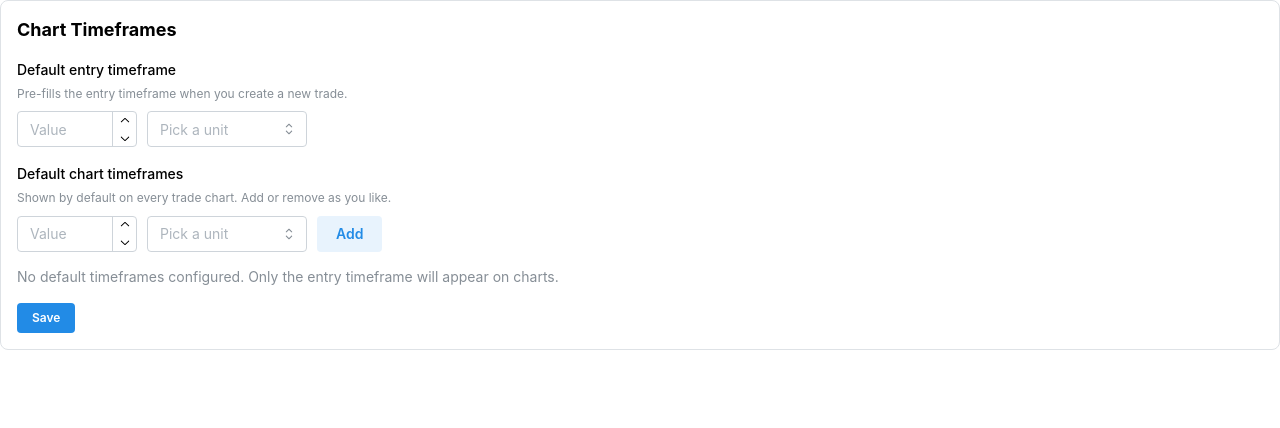
ChartTimeframesCard › rejects a duplicate timeframe with an inline error
Type "15" into the field named "Default chart timeframes" at (77, 234), box left=17, top=216, right=137, bottom=252
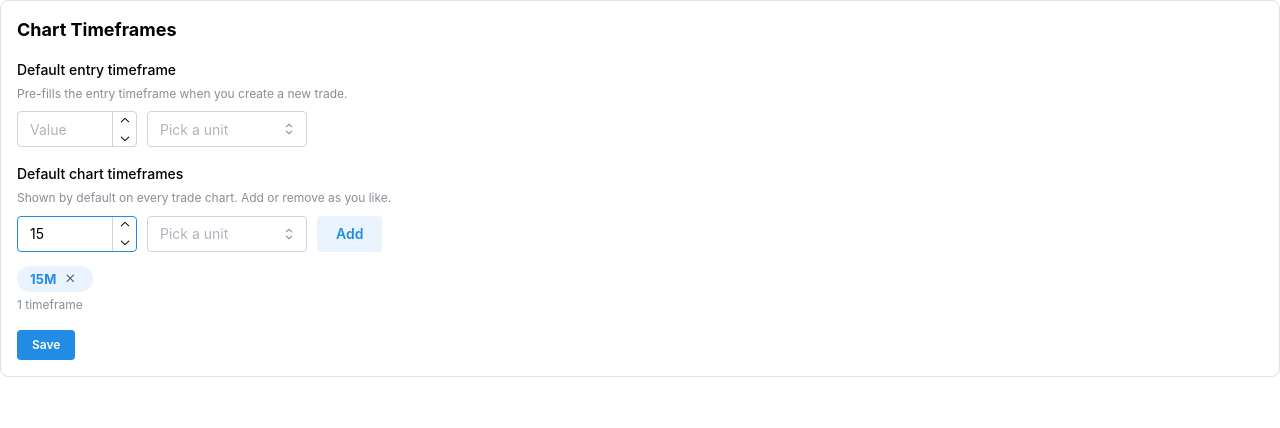
Click the field with placeholder "Pick a unit" below "Default chart timeframes" at (227, 234), box left=147, top=216, right=307, bottom=252
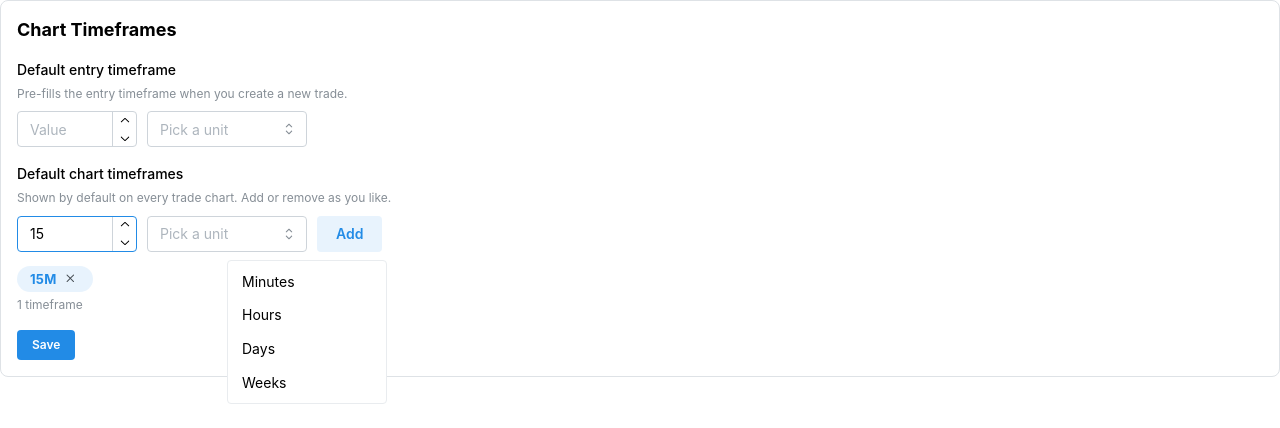
Click the option "Minutes" at (268, 281), box left=242, top=273, right=295, bottom=290
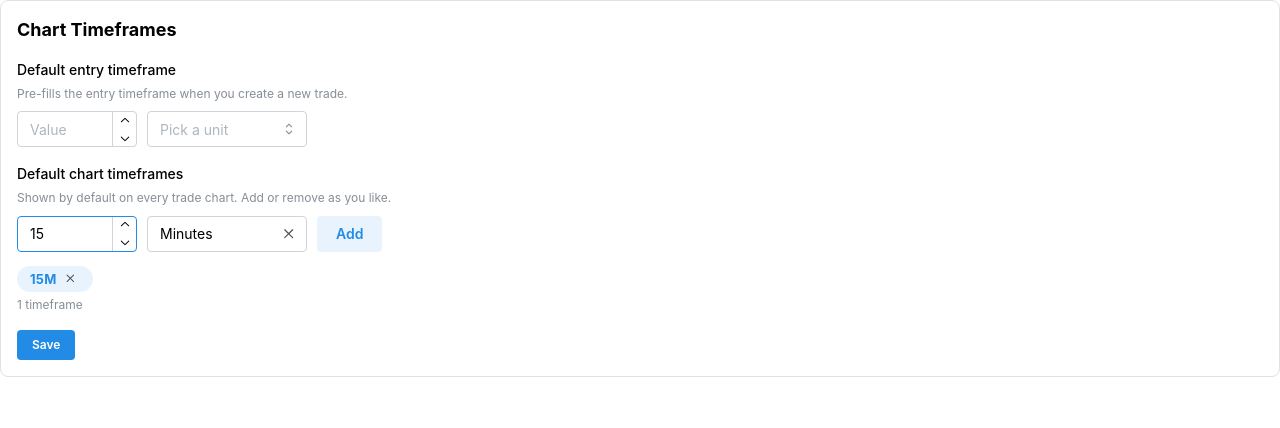
Click the button "Add" at (350, 234), box left=317, top=216, right=382, bottom=252
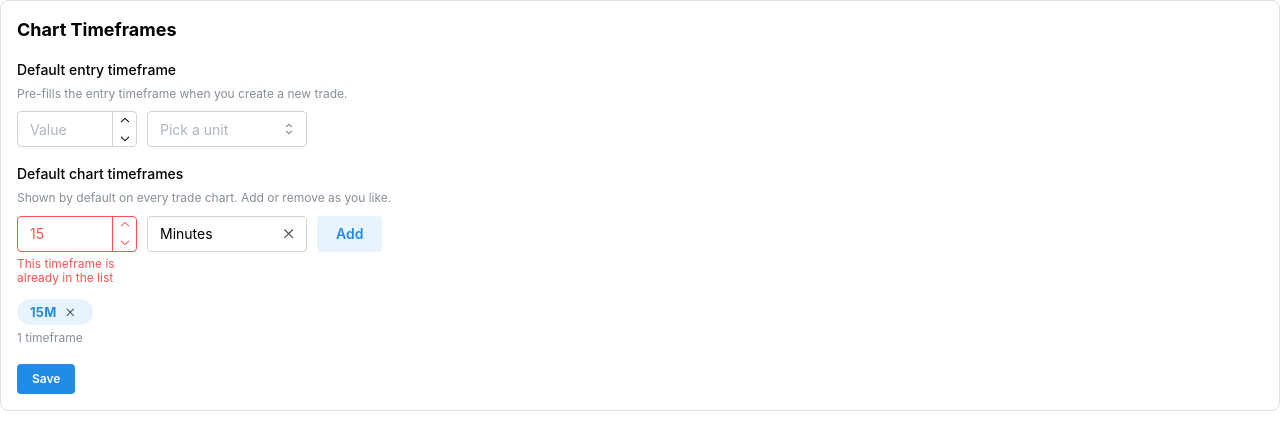
Now the text "This timeframe is already in the list" is shown, box left=17, top=256, right=115, bottom=285
